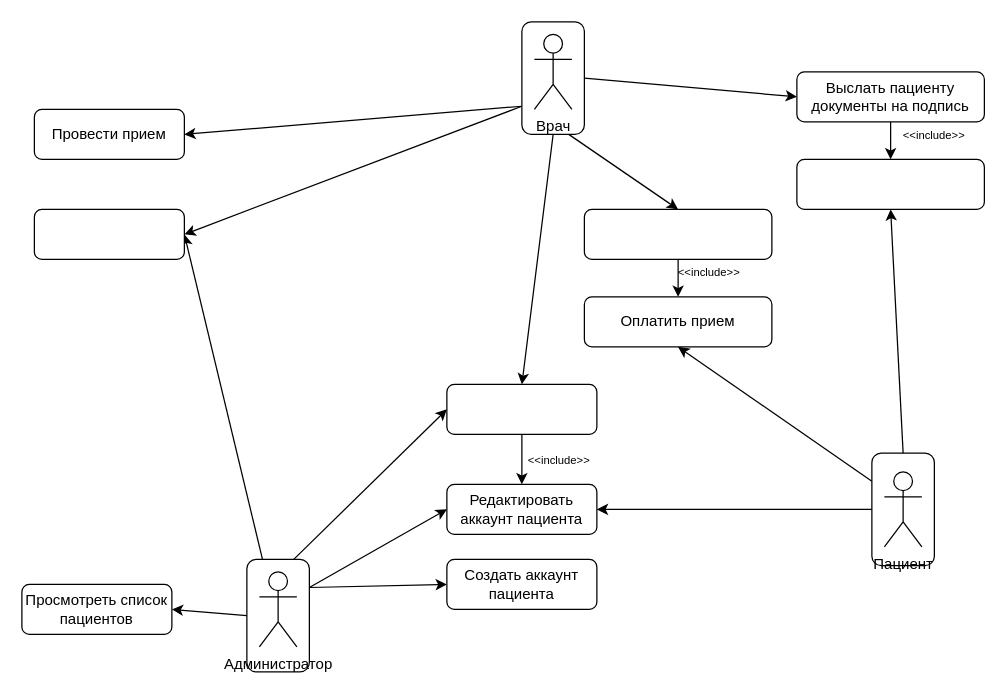
This 1006x695 diagram has some shape labels left out. Each missing label, with the centre of its shape:
"Выставить чек на оплату приема" goes at (x=677, y=233).
"Подписать высланные документы" goes at (x=890, y=183).
"Просмотреть список записей к врачу" goes at (x=108, y=233).
"Создать запись пациента к врачу" goes at (x=521, y=408).
